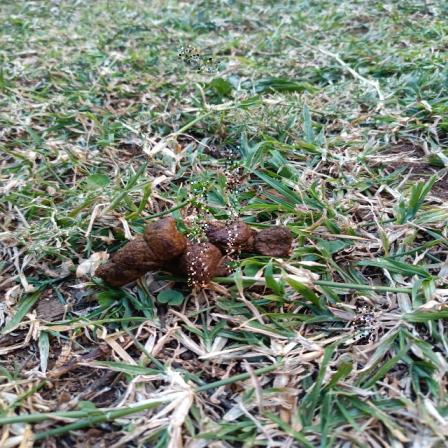dog-poop: (97, 209, 289, 283)
